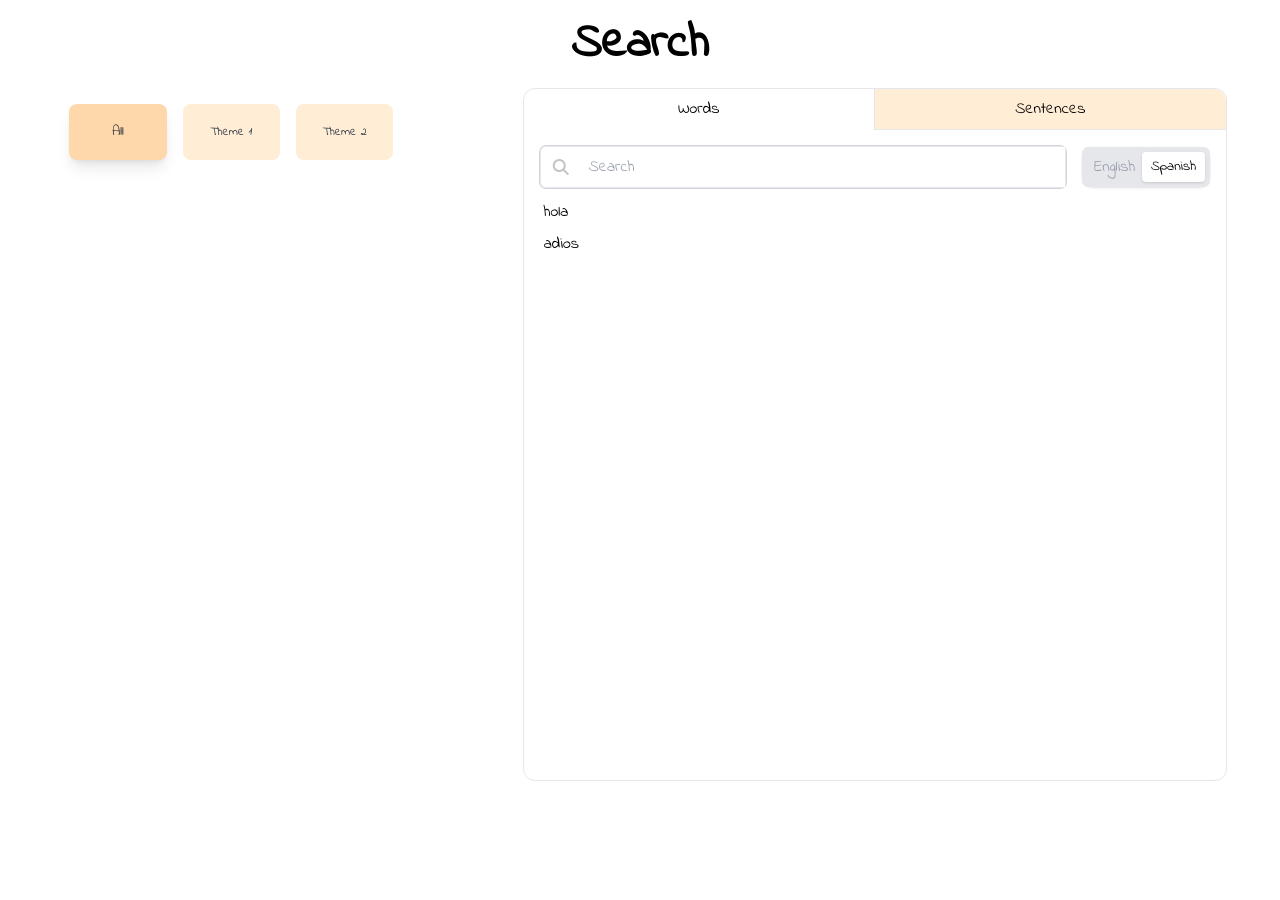
Scenario: SearchList › filters the list by theme
expect the text "adios" is shown: met, box [544,232,579,256]
Click the button "Theme 1": (231, 132) [183,104,280,160]
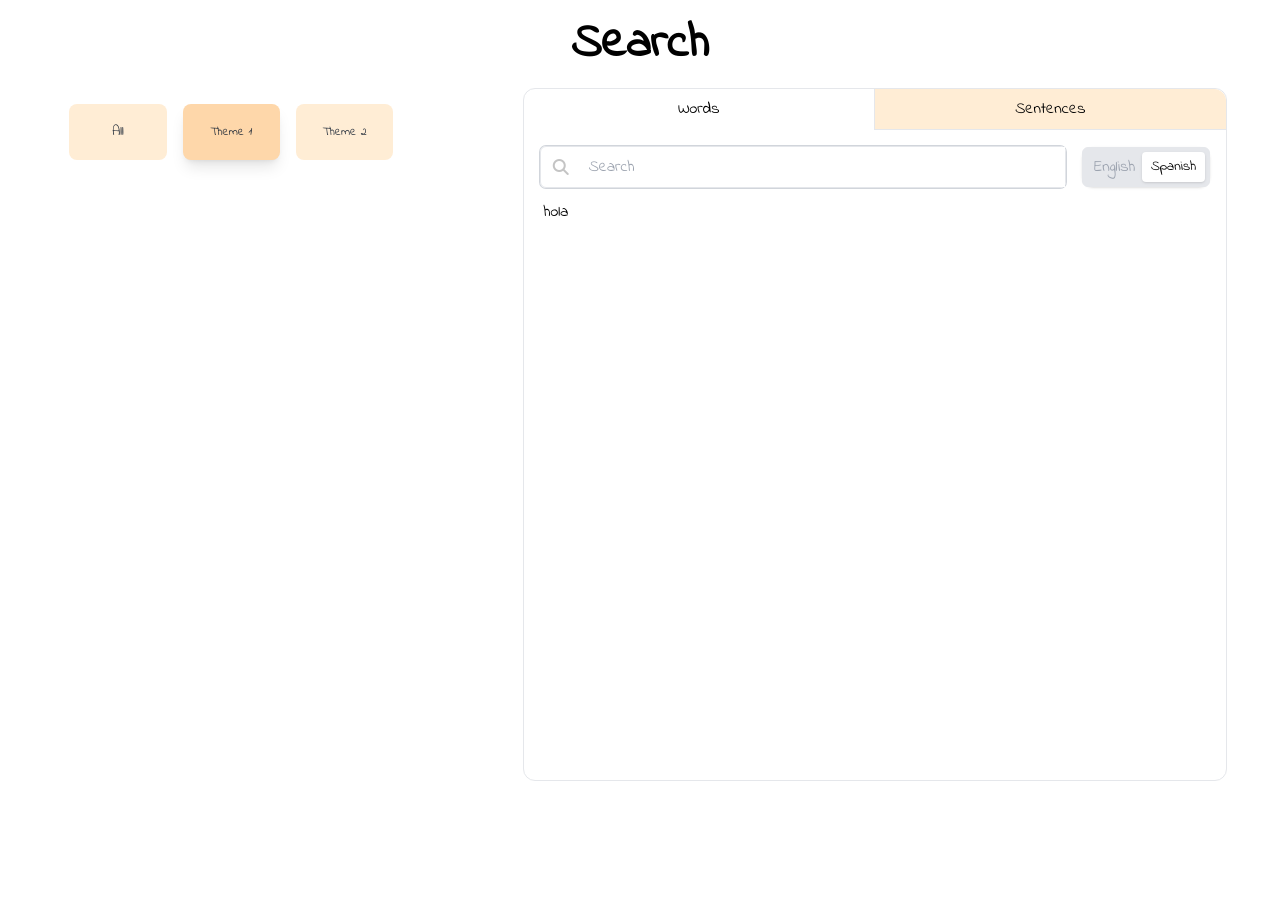
expect the text "hola" is shown: met, box [544,200,568,224]
expect the text "adios" is gone: met
